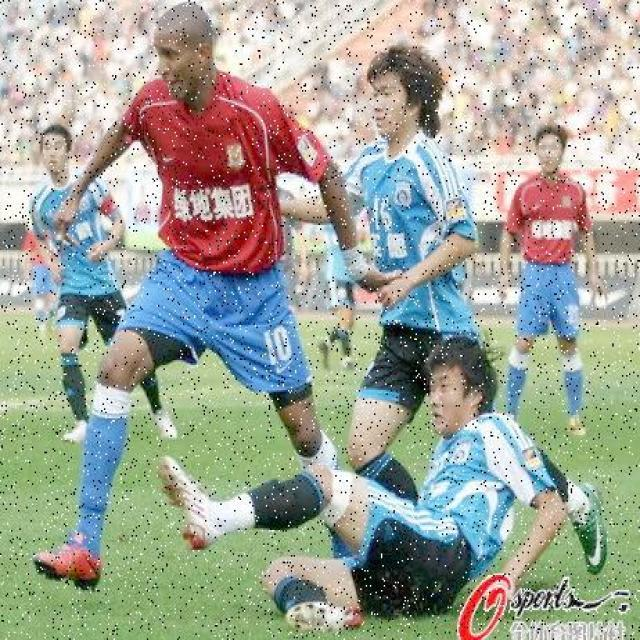fall: (210, 362, 552, 622)
